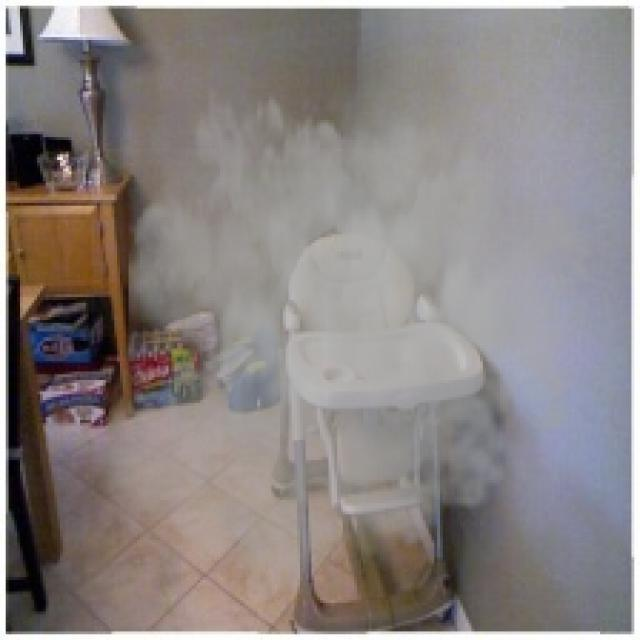Smoke: (91, 51, 608, 612)
